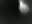person: (20, 1, 30, 16)
